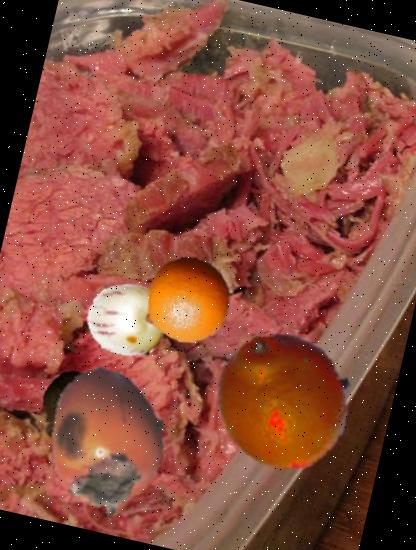Kaki: (18, 352, 195, 529)
Orange: (138, 248, 240, 350)
Papaya: (30, 362, 122, 454)
Pepino: (81, 272, 176, 367)
Tangelo: (201, 314, 371, 484)
